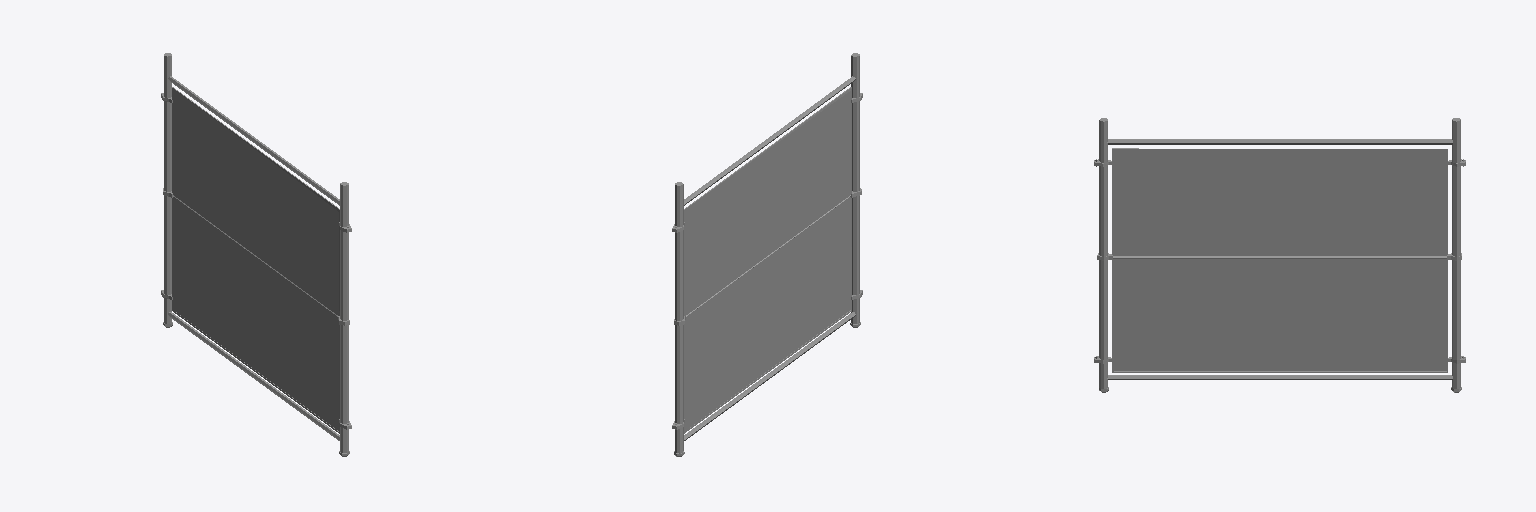
The model's file is fence.obj.
3 renders of one model, left to right at view 1: azimuth 30°, elevation 25°; view 2: azimuth 150°, elevation 25°; view 3: azimuth 270°, elevation 25°, orthographic.
Visible parts, largest first — view 1: Body_fence01a_reference_smd_mesh_1; view 2: Body_fence01a_reference_smd_mesh_1; view 3: Body_fence01a_reference_smd_mesh_1.
Boxes of the visible parts, <box> form: Body_fence01a_reference_smd_mesh_1: <box>161,53,351,456</box>; Body_fence01a_reference_smd_mesh_1: <box>672,53,862,456</box>; Body_fence01a_reference_smd_mesh_1: <box>1094,118,1465,392</box>.
Size of the model in its own units: 0.0557 by 1.37 by 1.69.